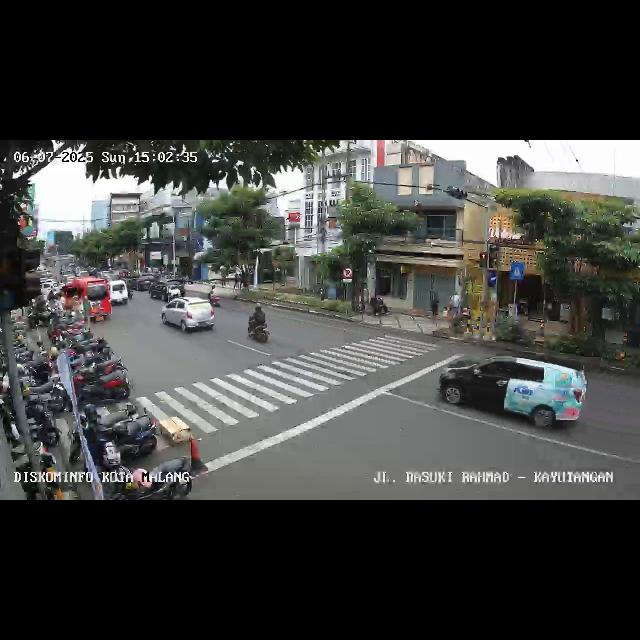car: (437, 352, 587, 436), (61, 277, 111, 323), (161, 298, 217, 336), (149, 280, 185, 300), (106, 281, 130, 307), (128, 276, 154, 296)
motorcycle: (602, 322, 640, 378), (246, 306, 272, 344), (209, 286, 221, 308)
